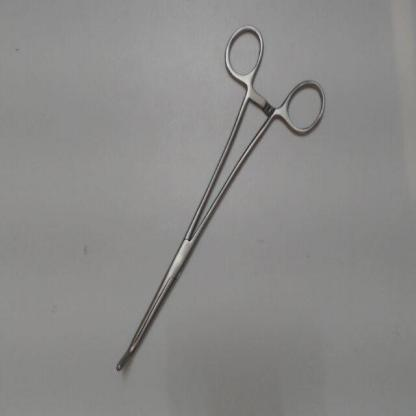Lahey Forceps: (106, 20, 330, 383)
